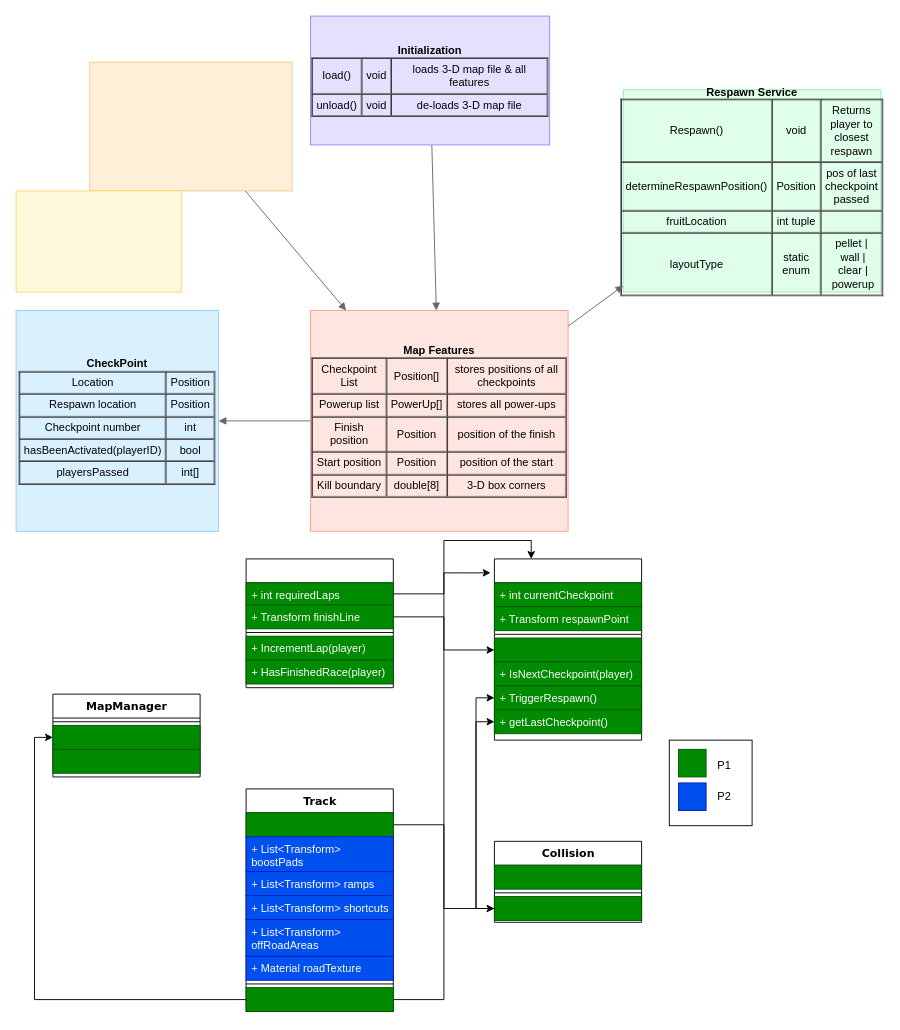
Image size: 900x1030. Some labels were removed from this diagram. The box of each missing label's shape, as (x1, y1, x2, y2) in pixels:
+ ActivateCheckpoint(): (493, 637, 642, 662)
+ InitializeTrack(): (245, 987, 393, 1012)
+ LayerMask trackLayer: (493, 864, 642, 889)
+ List<Borders> borders: (245, 812, 393, 837)
+ LoadMap(): (52, 724, 200, 749)
+ OnCollision(player): (493, 896, 642, 920)
+ UnLoadMap(): (52, 748, 200, 773)
CheckpointManager: (493, 558, 642, 740)
LapTracker: (245, 558, 393, 688)
Position double x double y: (15, 190, 182, 292)
Power Up Location Position GetLocation() Position: (89, 61, 292, 191)
